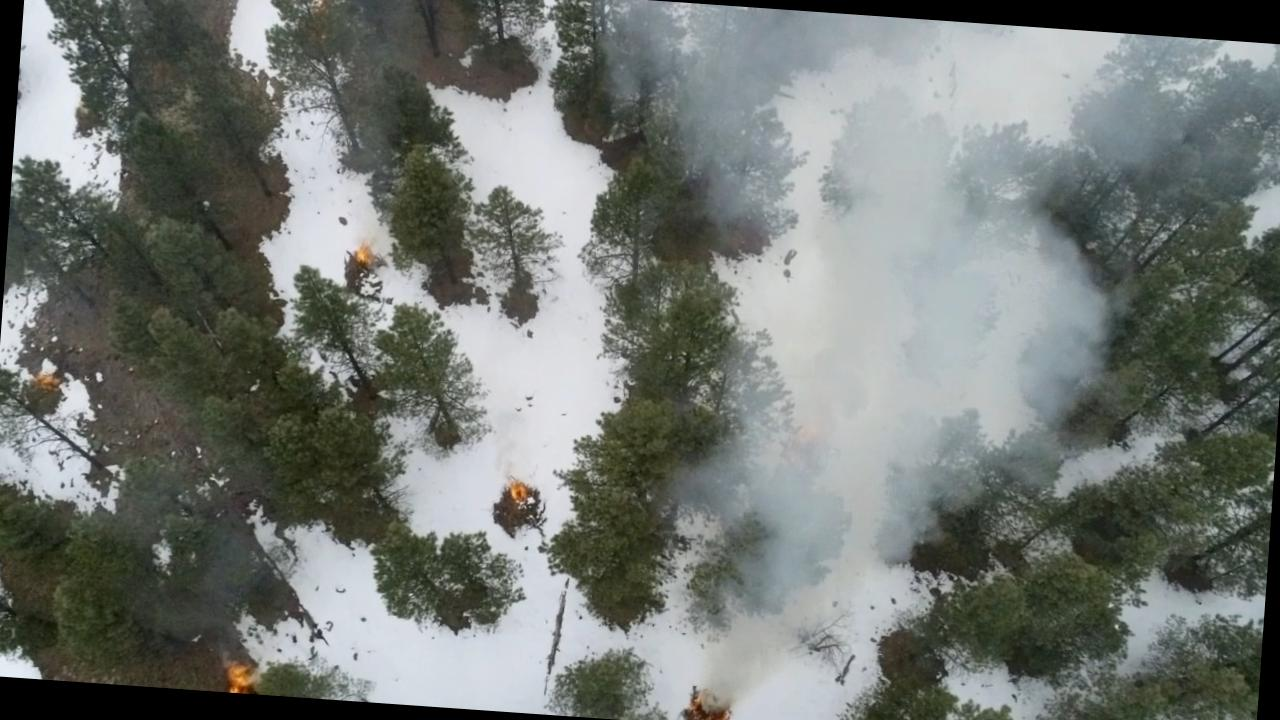fire: (679, 680, 739, 720), (208, 654, 252, 694), (500, 470, 533, 507), (348, 241, 379, 266)
smoke: (593, 0, 1274, 311), (712, 278, 1112, 611)
